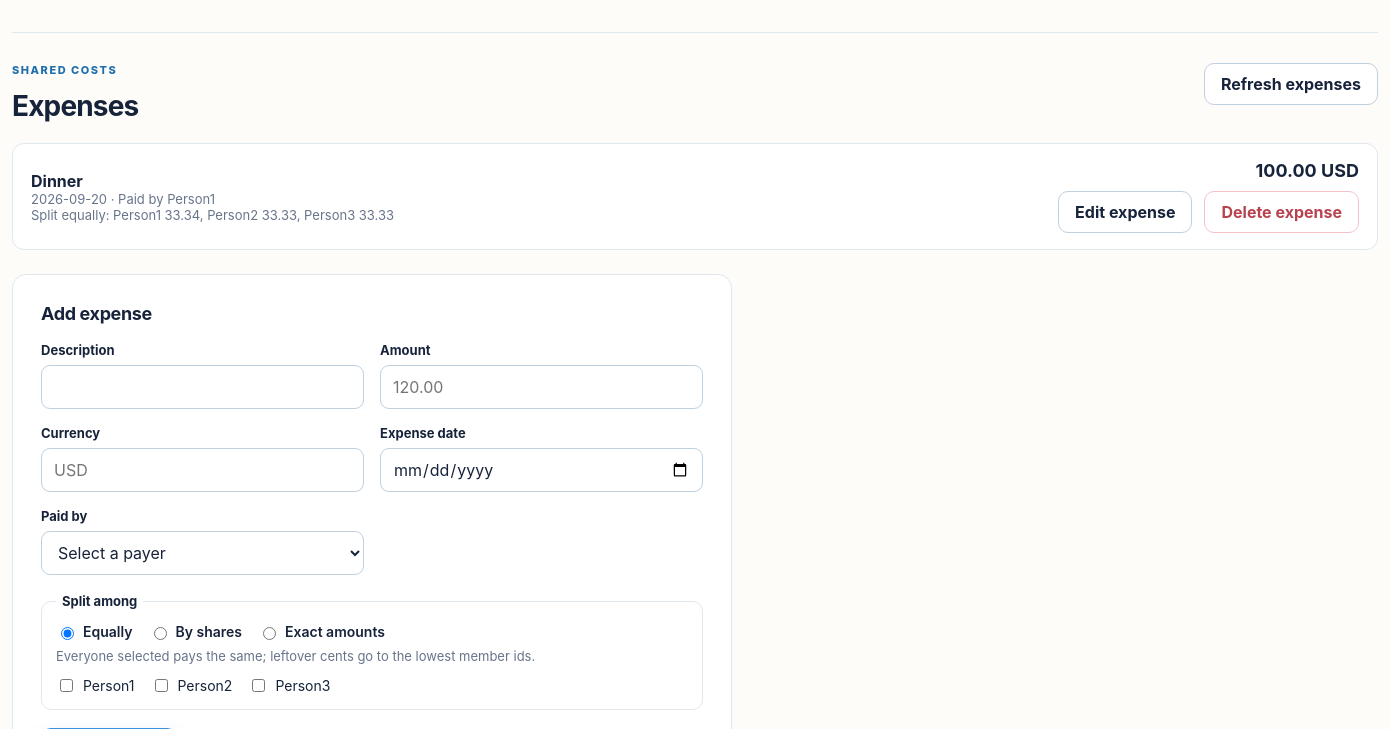
Test: allows a member to edit another creator expense and delete after confirmation
Click the button "Edit expense".
click(1125, 212)  # box [1058,191,1192,233]
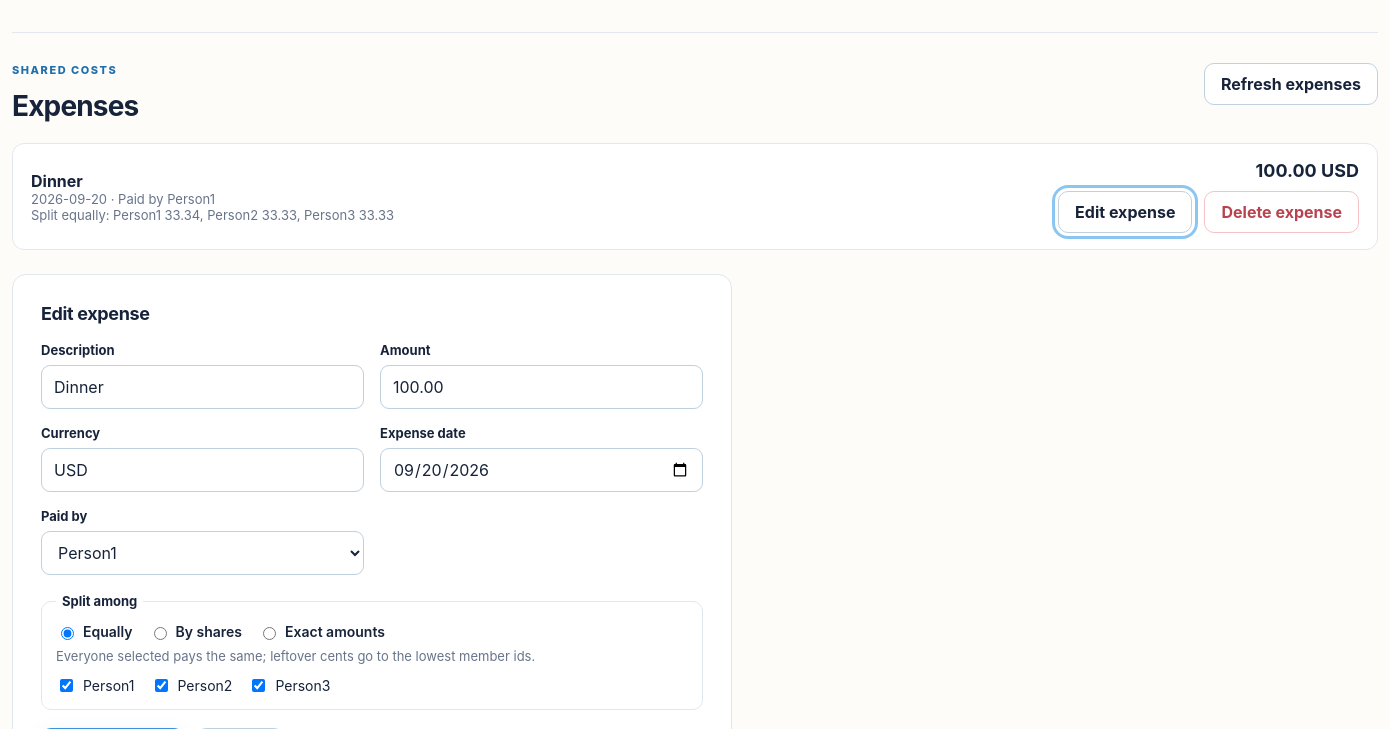
Replace the text in the field labelled "Amount" with "90.00" at [542, 387], box [380,365,703,409]
(page scrolled)
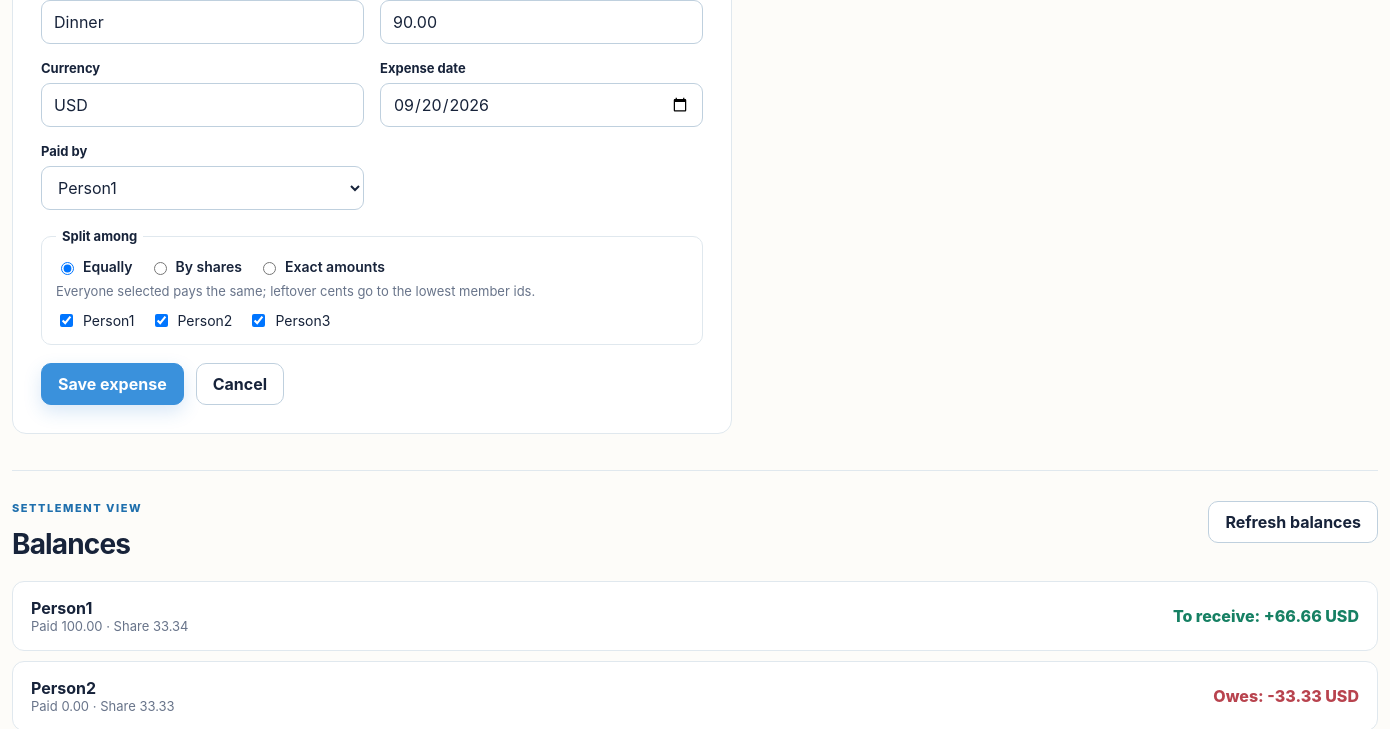
Click the button "Save expense".
click(112, 384)  # box [41,363,184,405]
(page scrolled)
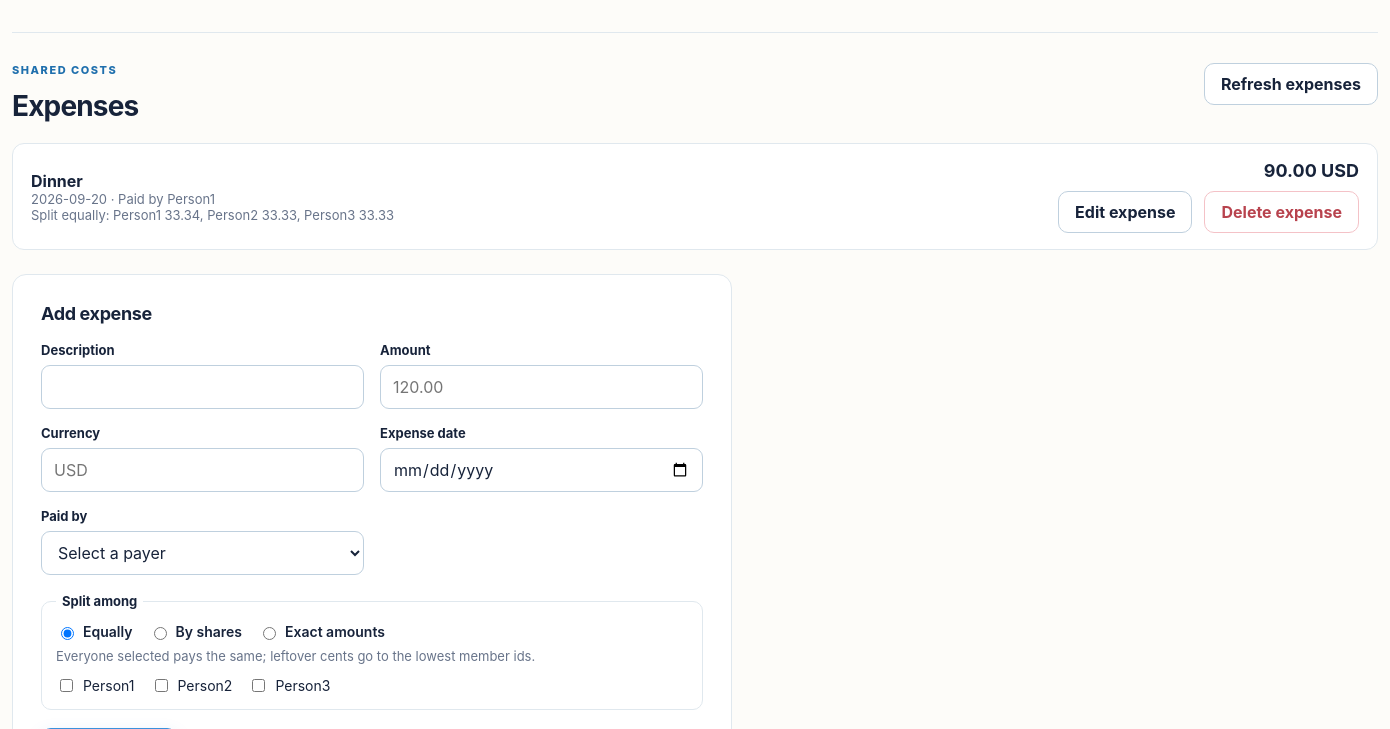
Click the button "Delete expense".
click(1282, 212)  # box [1204,191,1359,233]
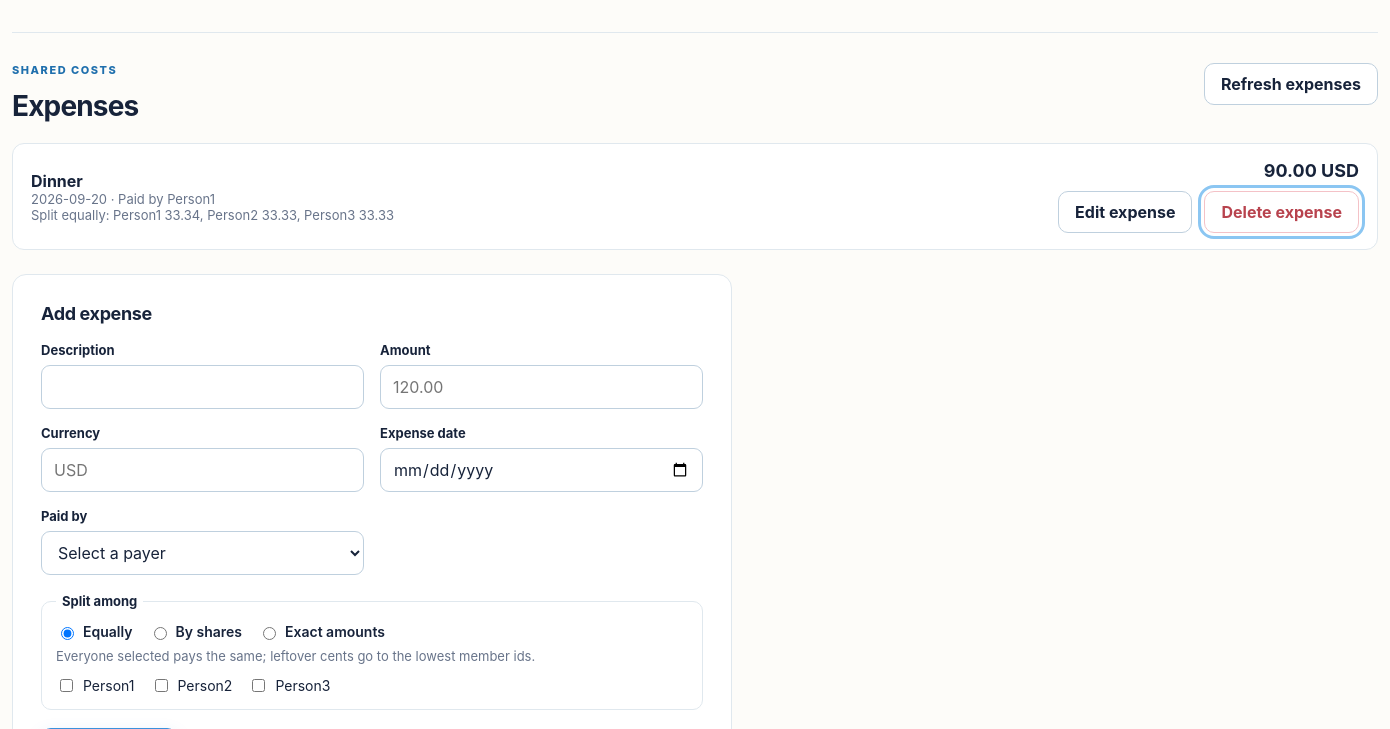
Click the button "Delete expense".
click(1282, 212)  # box [1204,191,1359,233]
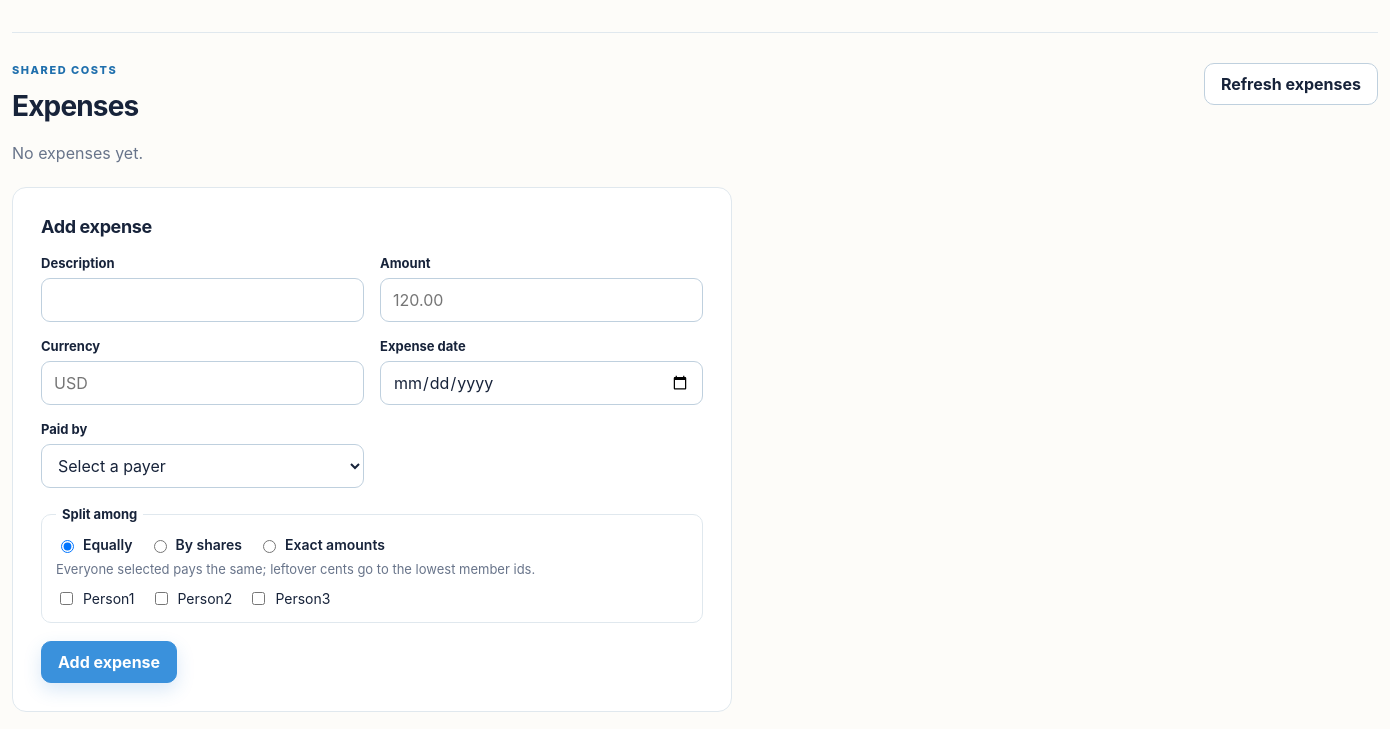
expect the text "No expenses yet." is shown: met, box [12,143,143,163]
